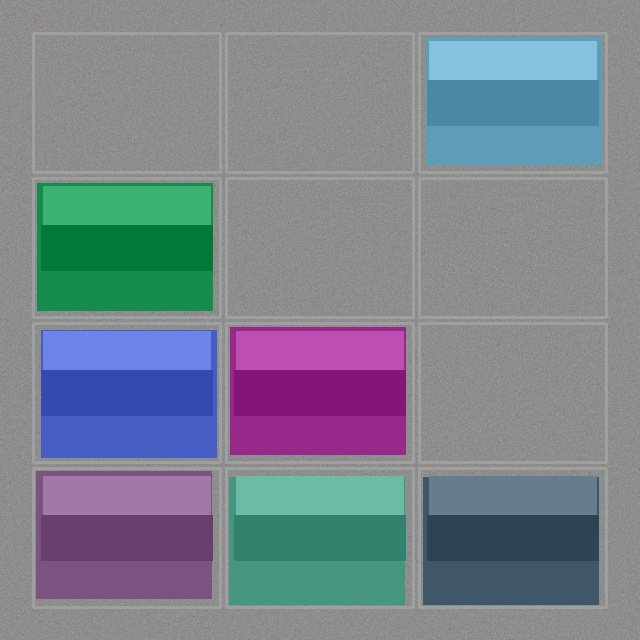space-empty: (35, 35, 218, 170), (228, 35, 411, 170), (228, 180, 411, 315), (421, 180, 604, 315), (421, 325, 604, 460)
space-occupied: (421, 35, 604, 170), (35, 180, 218, 315), (35, 325, 218, 460), (228, 325, 411, 460), (35, 470, 218, 605), (228, 470, 411, 605), (421, 470, 604, 605)
